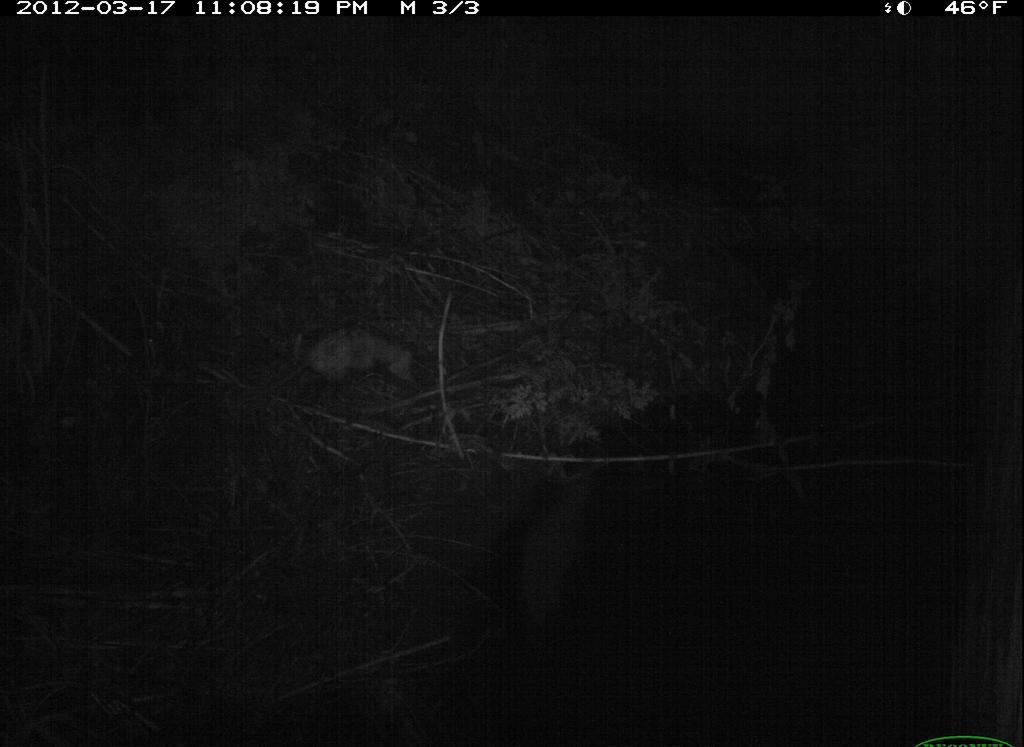opossum: (242, 296, 437, 446)
